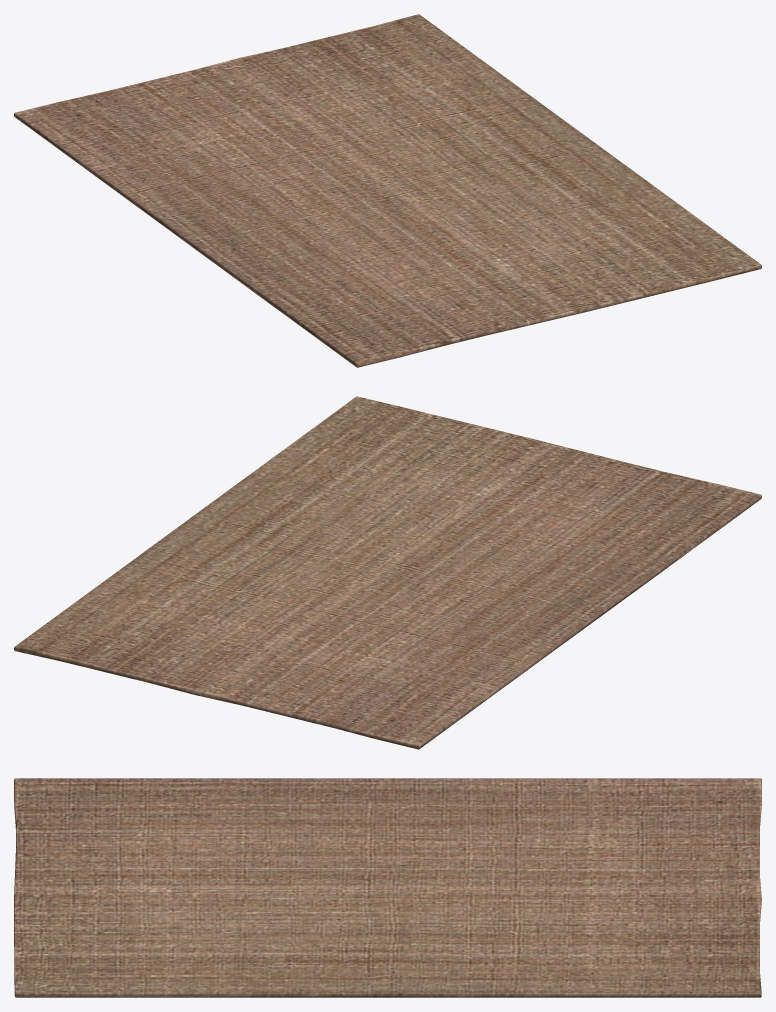
File: lohals_dywan_tkany_na_pasko_30511288.glb
3 renders of one model, top to bottom at view 1: azimuth 30°, elevation 25°; view 2: azimuth 150°, elevation 25°; view 3: azimuth 270°, elevation 25°, orthographic. The views are drawn at different scales.
Parts seen in each view (by area): view 1: lohals_dywan_tkany_na_pasko_30511288; view 2: lohals_dywan_tkany_na_pasko_30511288; view 3: lohals_dywan_tkany_na_pasko_30511288.
Boxes of the visible parts, bbox=[...] form: lohals_dywan_tkany_na_pasko_30511288: bbox=[14, 14, 761, 367]; lohals_dywan_tkany_na_pasko_30511288: bbox=[14, 396, 761, 749]; lohals_dywan_tkany_na_pasko_30511288: bbox=[14, 778, 761, 997].
Size of the model in its own units: 1.33 by 0.014 by 1.95.
1 material, 1 textured.
